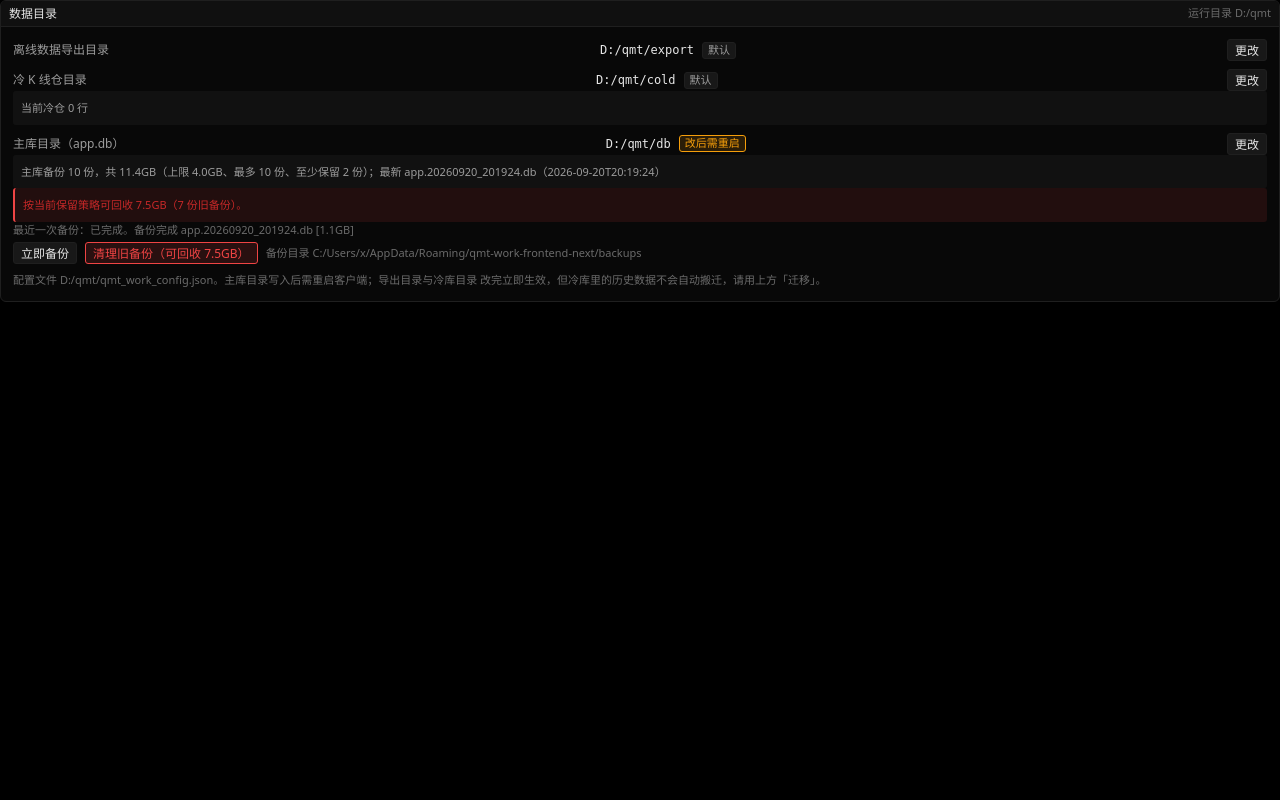
Scenario: 数据目录面板 · 备份占用 › ★ 有可回收量时按钮可点，且必须走确认弹窗（删除不可逆）
Expected: the text "按当前保留策略可回收 7.5GB（7 份旧备份）。" is shown, [13,188,1267,222]
// 点一次只是**打开确认框**，不能直接发请求
Click the button "清理旧备份（可回收 7.5GB）": (171, 253) [85,242,258,264]
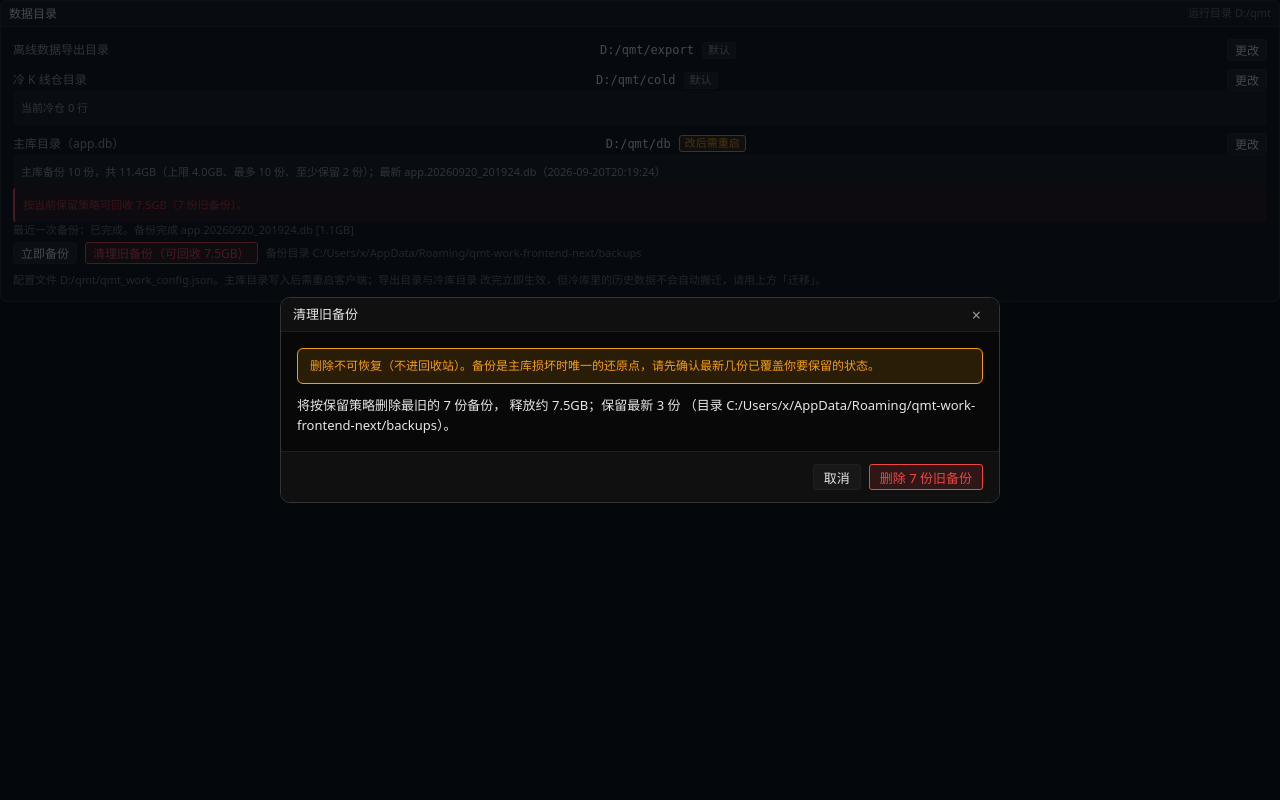
Now the text "清理旧备份" is shown, box [293,305,358,324]
Click the button "取消": (837, 477) [813,464,861,490]
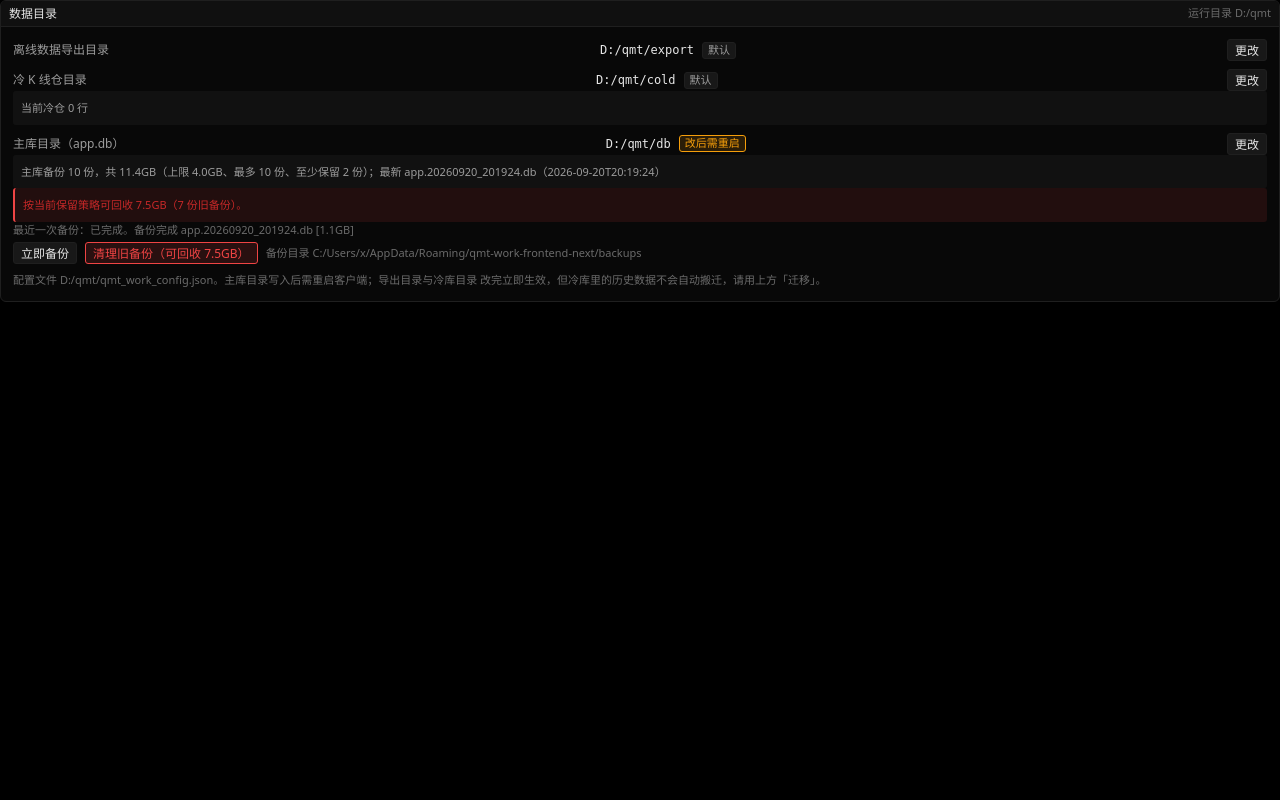
Now the text "删除不可恢复" is gone
